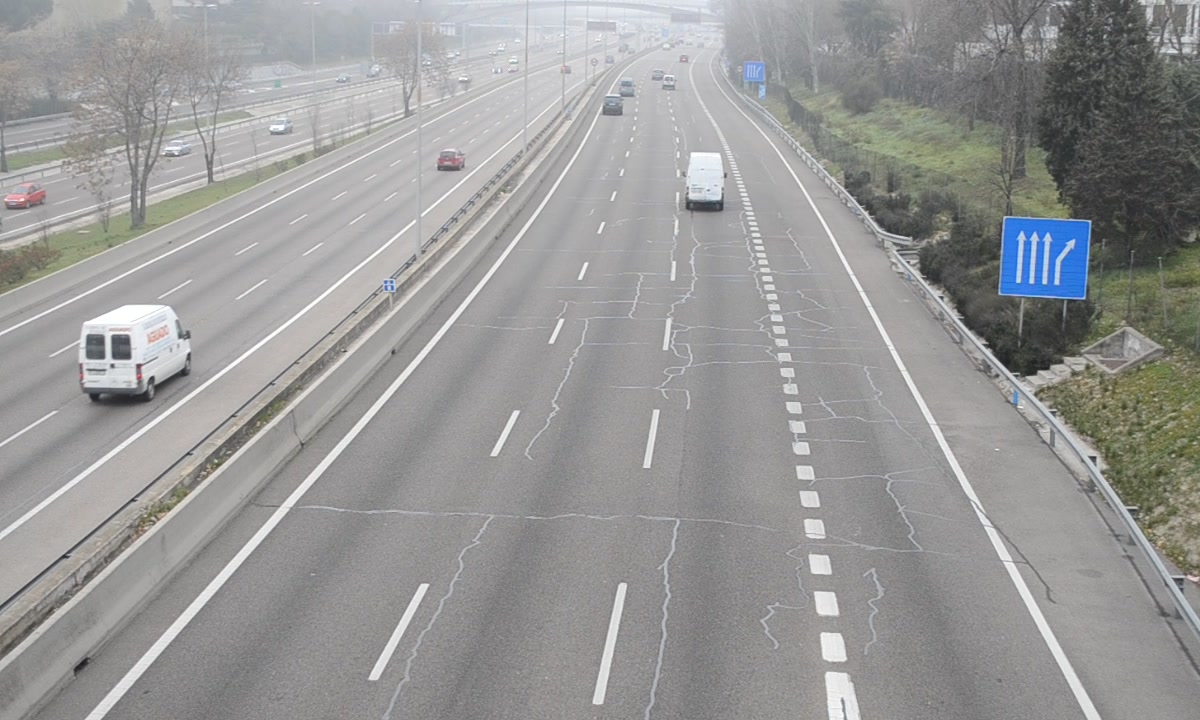van: (683, 151, 726, 209)
